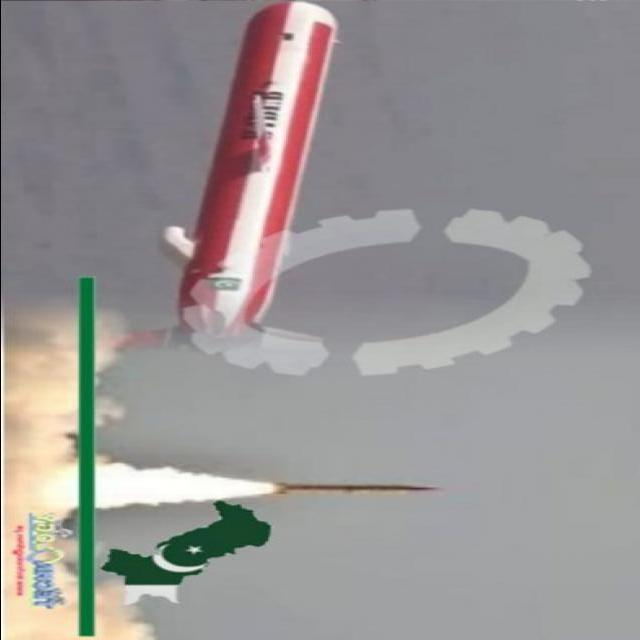missile: (162, 4, 336, 354), (262, 479, 443, 498)
